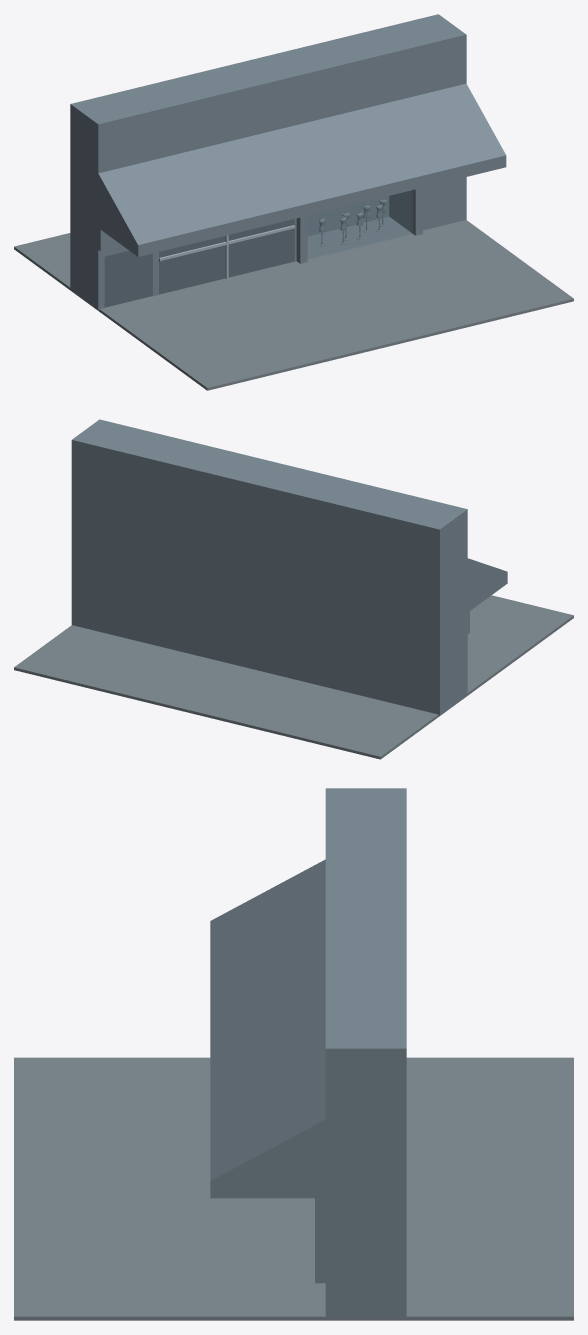
The model's file is street.glb.
3 views of the same model, one above another, from view 1: azimuth 30°, elevation 25°; view 2: azimuth 150°, elevation 25°; view 3: azimuth 270°, elevation 25° (orthographic). The views are drawn at different scales.
Parts seen in each view (by area): view 1: Cube.001, Cube, Cube.003, Cube.005, Cube.004; view 2: Cube.001, Cube; view 3: Cube, Cube.001.
Part boxes in pixels (x1=…): Cube.001: x1=70, y1=14, x2=506, y2=310; Cube: x1=14, y1=216, x2=573, y2=390; Cube.003: x1=159, y1=219, x2=295, y2=294; Cube.005: x1=308, y1=190, x2=413, y2=259; Cube.004: x1=104, y1=250, x2=151, y2=307; Cube.001: x1=71, y1=419, x2=507, y2=715; Cube: x1=14, y1=595, x2=573, y2=759; Cube: x1=14, y1=1057, x2=573, y2=1320; Cube.001: x1=210, y1=788, x2=406, y2=1317.
Size of the model in its own units: 61.2 by 29.86 by 55.68.
